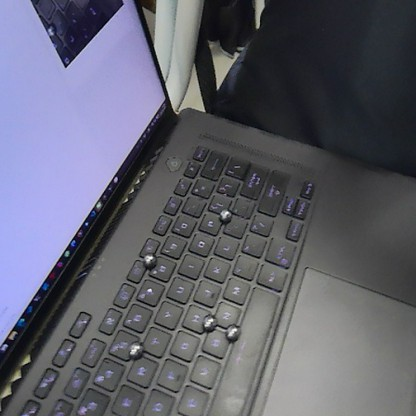ironball: (123, 340, 146, 359), (223, 320, 242, 342), (199, 311, 218, 332), (138, 250, 157, 269), (216, 207, 232, 223)
